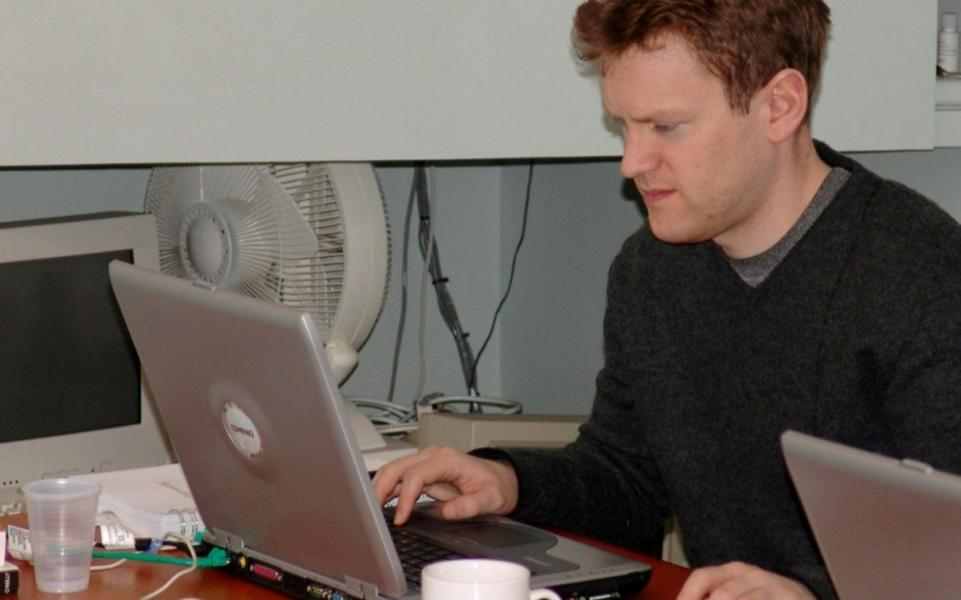person: (363, 1, 956, 600)
